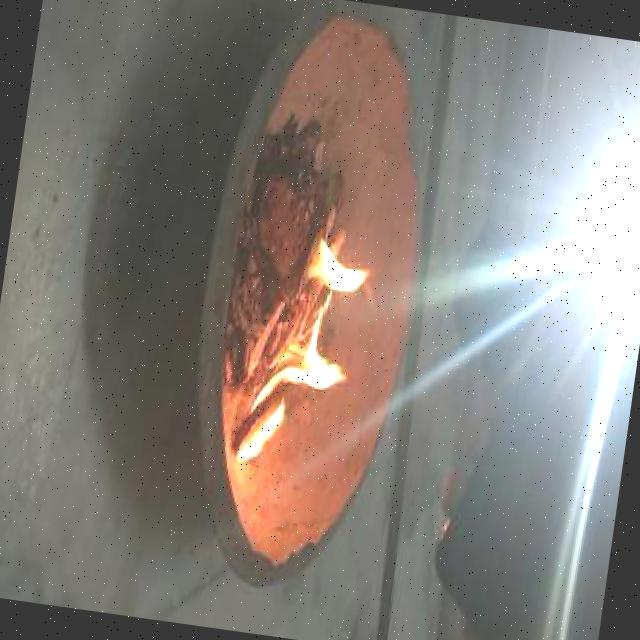fire: (232, 245, 375, 479)
